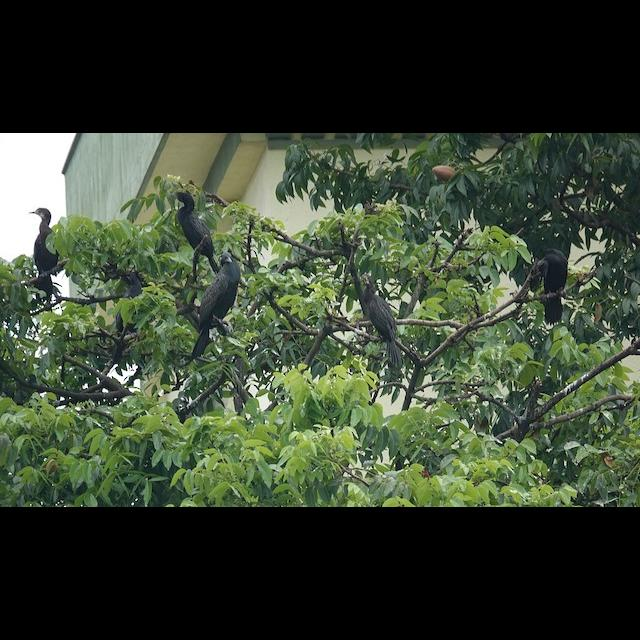cormorant: (164, 185, 220, 271), (28, 205, 64, 277)
